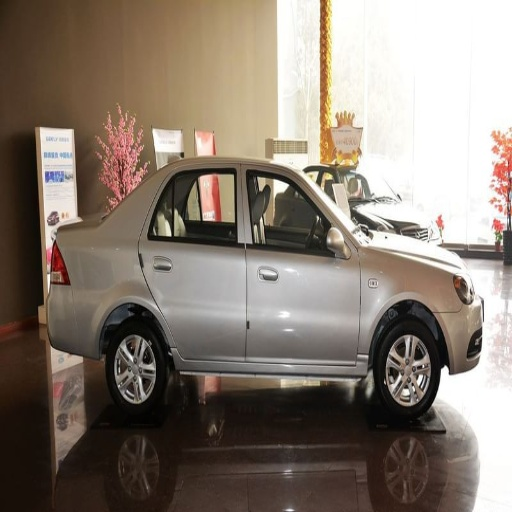back_right_door: (140, 164, 246, 370)
front_right_door: (245, 165, 360, 366)
